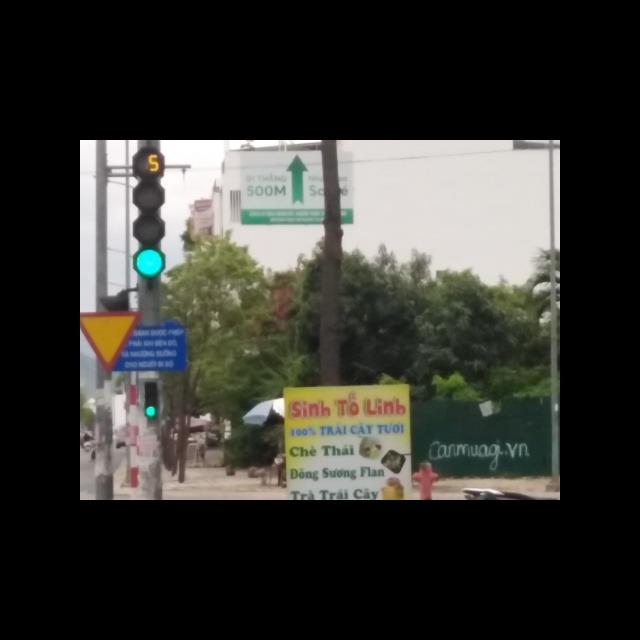Giao nhau với đường ưu tiên: (79, 312, 145, 375)
Đèn xanh: (134, 249, 162, 275)
